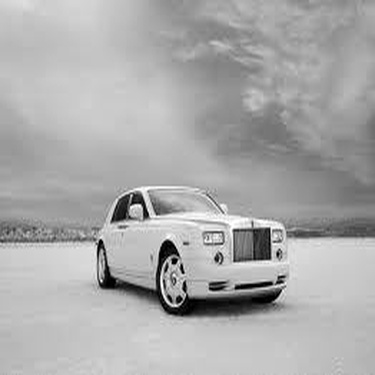car: (87, 175, 296, 317)
